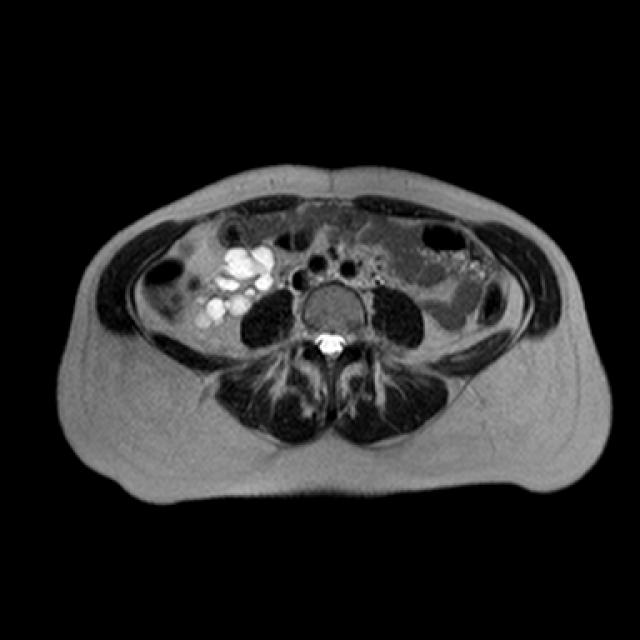sag: (191, 245, 275, 328)
